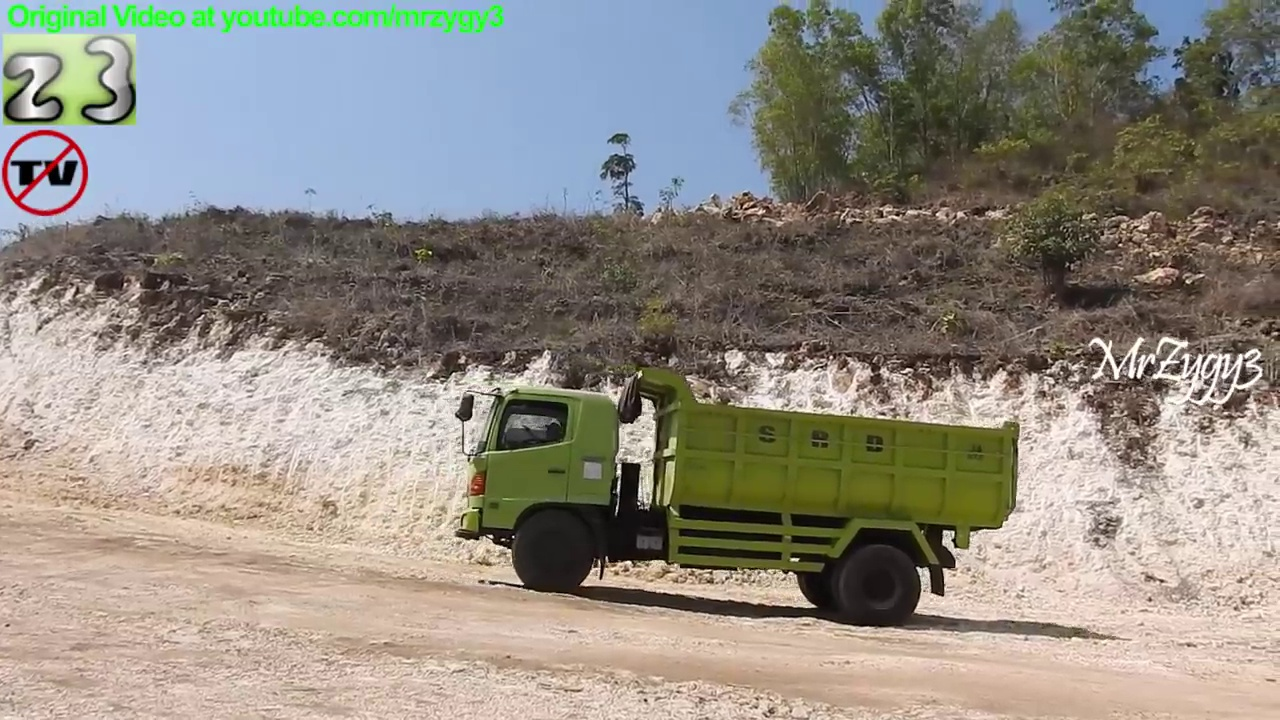truck: (446, 361, 1027, 630)
